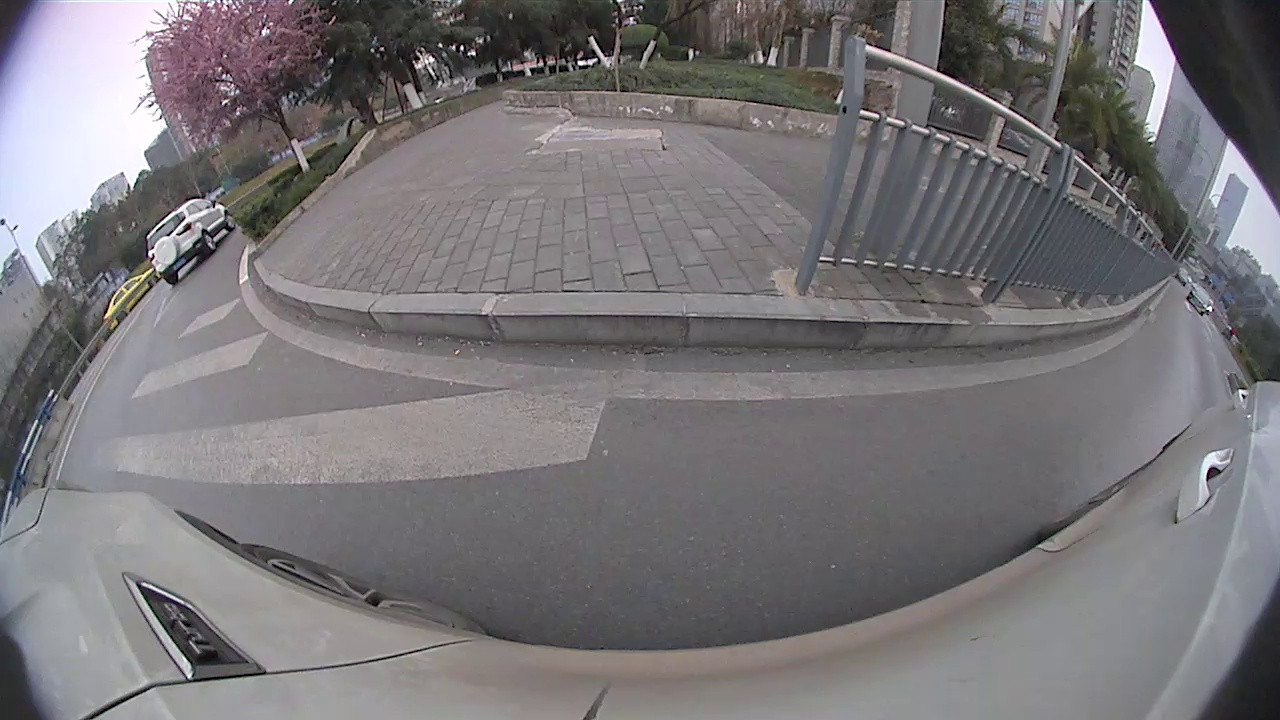car: (917, 139, 1043, 249), (105, 204, 141, 245)
front: (916, 161, 930, 183), (273, 141, 290, 158)
rear: (946, 184, 966, 214)
